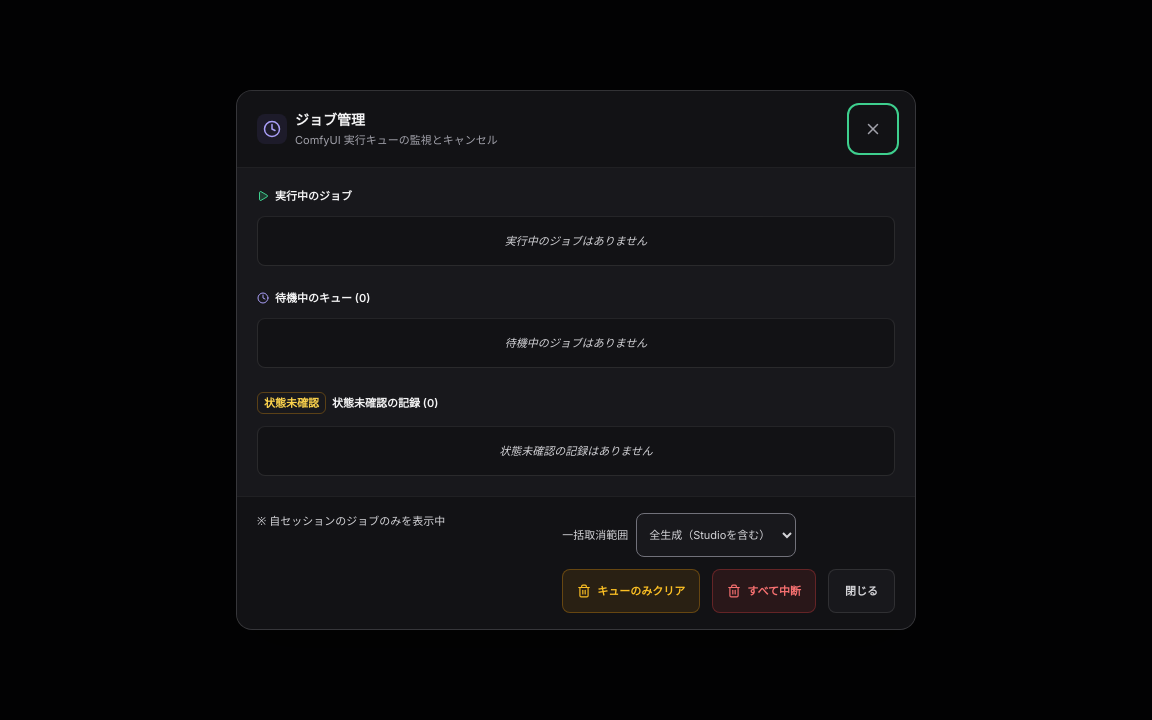
Scenario: JobManagementModal › passes normal scope independent of the display filter and stays open when protected work skips interruption
The width and height of the screenshot is (1152, 720).
Select "通常生成のみ" in the dropdown labelled "一括取消範囲" at [716, 535], box [636,513,796,557]
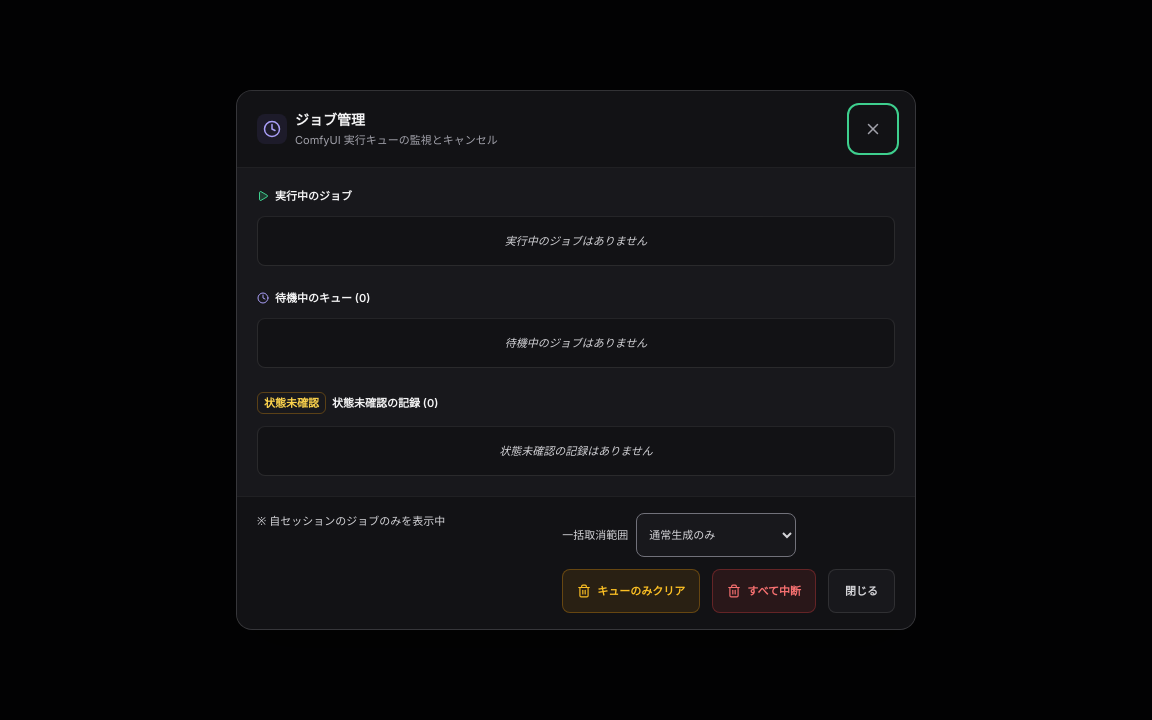
Click the button "すべて中断" at [764, 591], box [712,569,816,613]
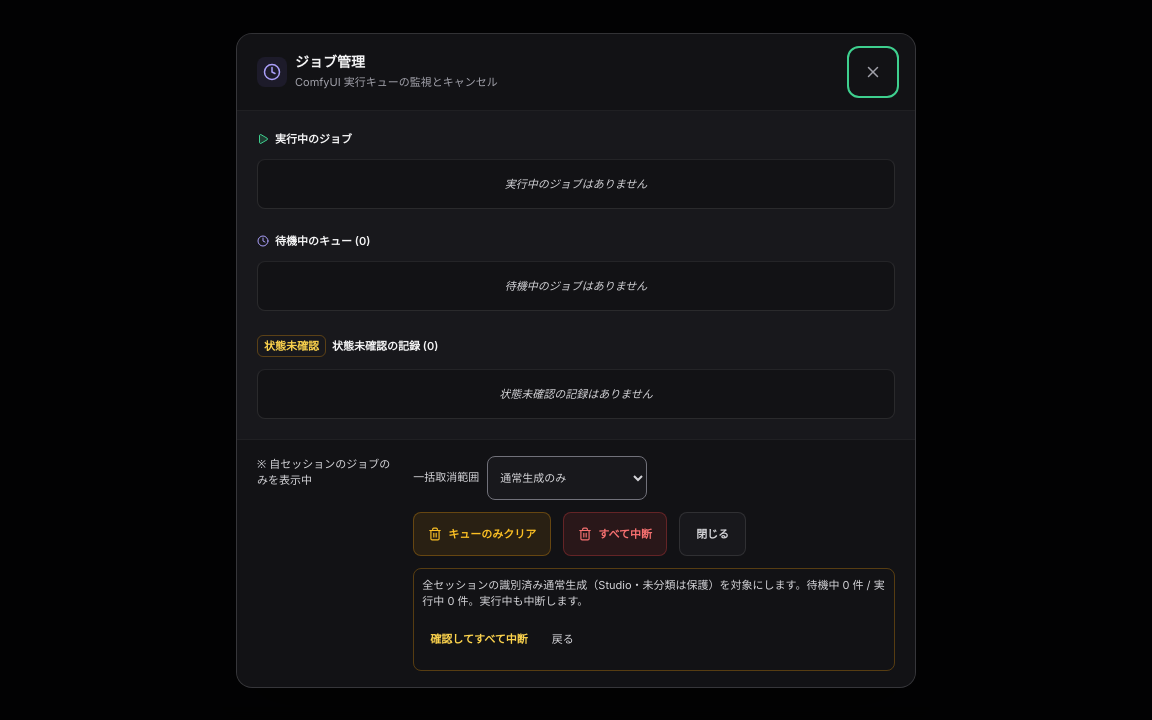
Result: the text "Studio・未分類は保護" is shown at [422,578,720,592]
Click the button "確認してすべて中断" at [479, 640], box [422,618,536,662]
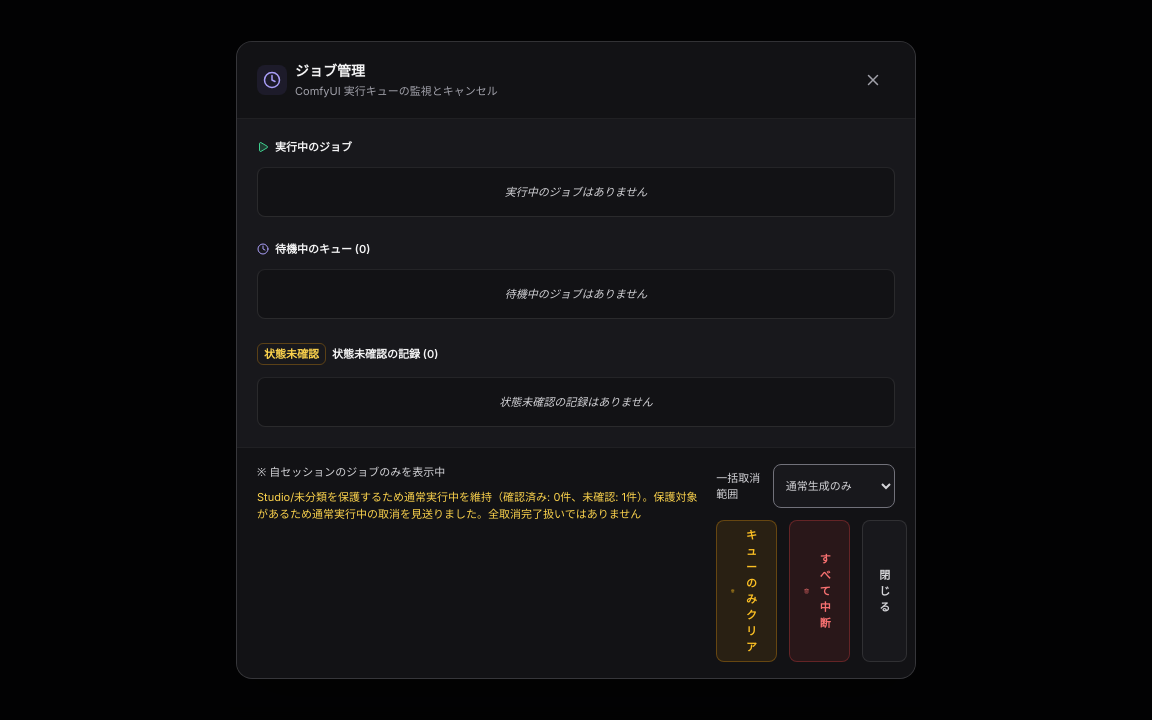
Result: the text "完了扱いではありません" is shown at [257,490,698,521]
